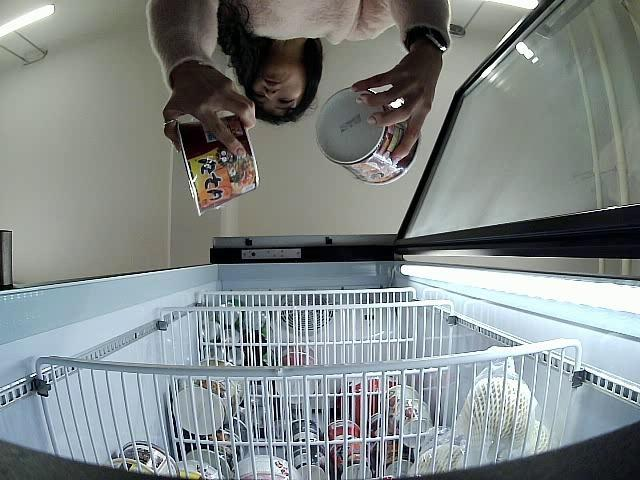05_nuguri_L: (315, 87, 419, 184), (176, 115, 260, 216)
